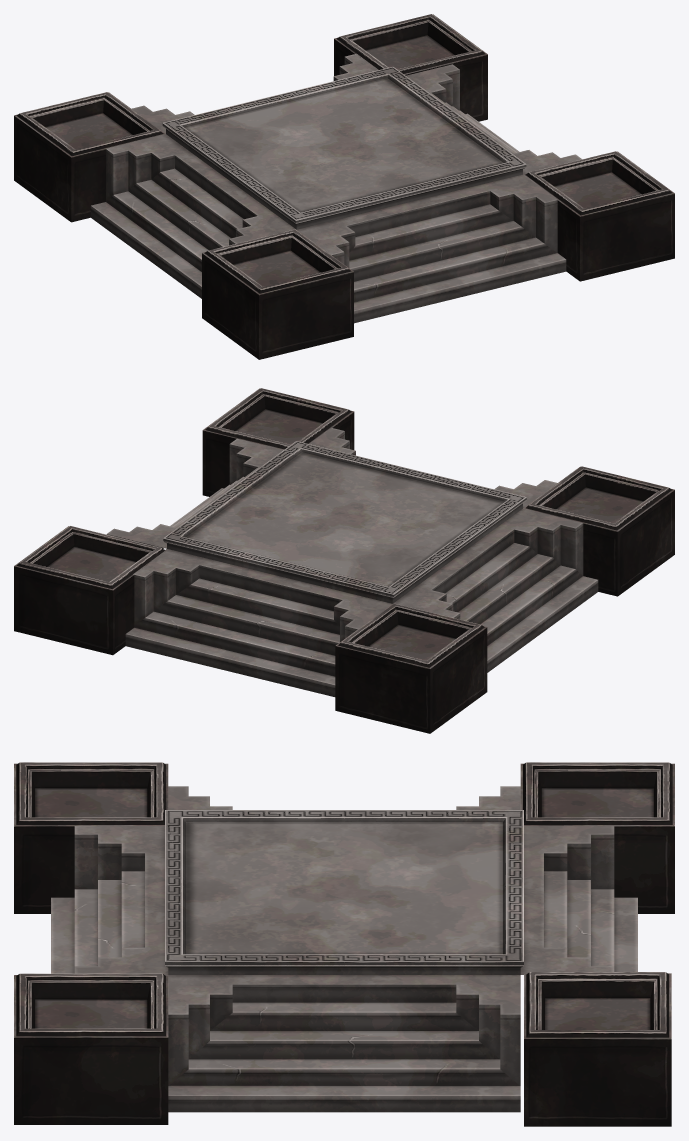
Rendered from em_dais_minotaur.fbx.
3 renders of one model, top to bottom at view 1: azimuth 30°, elevation 25°; view 2: azimuth 150°, elevation 25°; view 3: azimuth 270°, elevation 25°, orthographic. The views are drawn at different scales.
Parts seen in each view (by area): view 1: em_dais_minotaur; view 2: em_dais_minotaur; view 3: em_dais_minotaur.
Boxes of the visible parts, x1,y1,x2,y2 form: em_dais_minotaur: (14, 14, 674, 359); em_dais_minotaur: (14, 388, 674, 733); em_dais_minotaur: (14, 762, 674, 1126).
Bounding box in the file's own units: 1849 × 321 × 1878.
